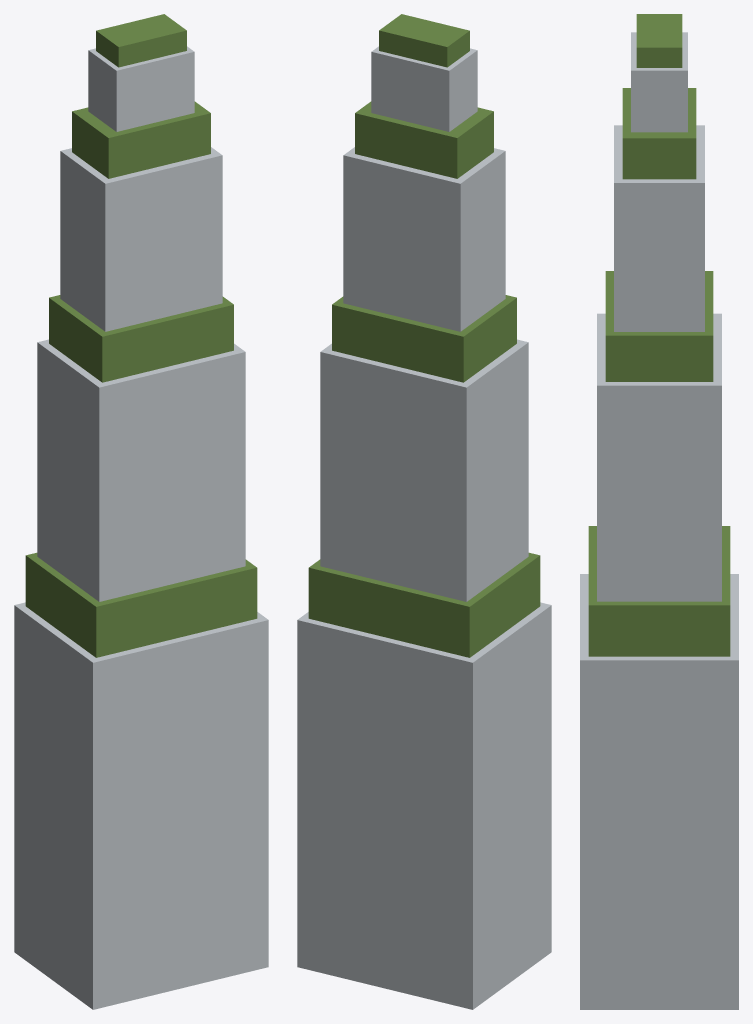
The model's file is tower.glb.
3 views of the same model, side by side, from view 1: azimuth 30°, elevation 25°; view 2: azimuth 150°, elevation 25°; view 3: azimuth 270°, elevation 25° (orthographic).
Visible parts, largest first — view 1: tower; view 2: tower; view 3: tower.
Part boxes in pixels (x1=…): tower: x1=14, y1=14, x2=268, y2=1009; tower: x1=297, y1=14, x2=551, y2=1009; tower: x1=580, y1=14, x2=738, y2=1009.
Size of the model in its own units: 36 by 182 by 28.
